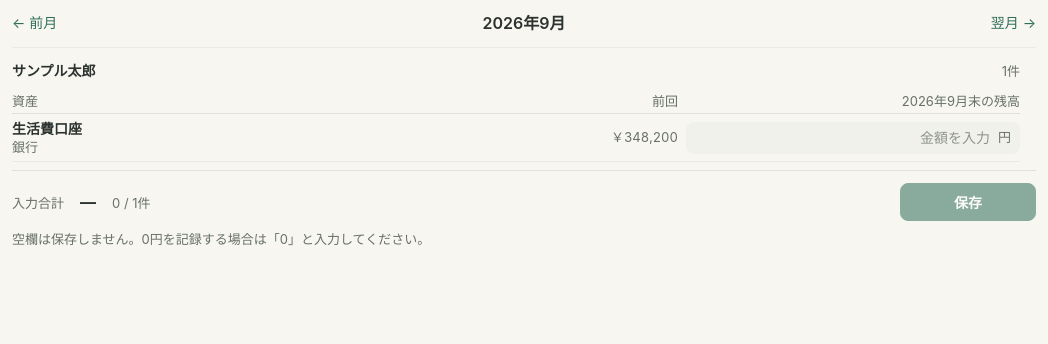
Test: BulkSnapshotEntry › explains invalid text without silently disabling the action
Type "abc" into the field labelled "金額を入力" at (842, 138), box [695,127,990,149]
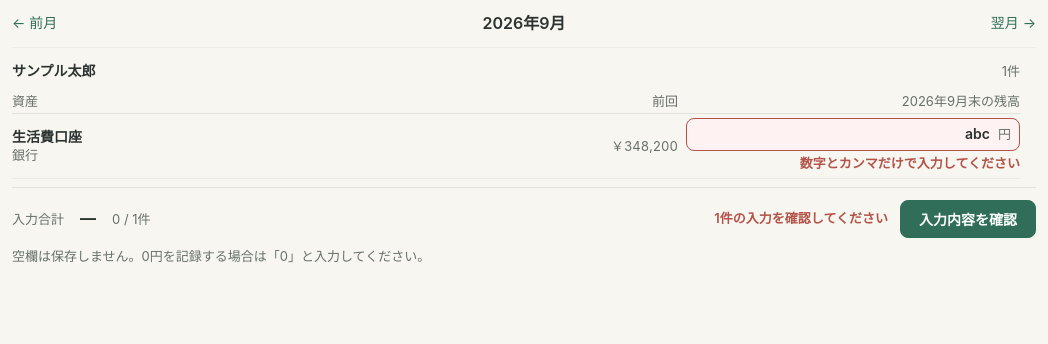
Now the text "数字とカンマだけで入力してください" is shown, box [800,155,1020,171]
Now the button "入力内容を確認" is enabled
Click the button "入力内容を確認" at (968, 219), box [900,200,1036,238]
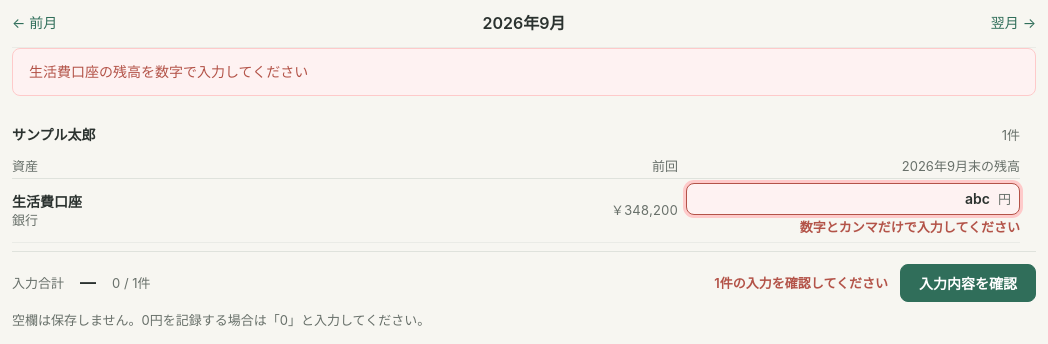
Now the message "生活費口座の残高を数字で入力してください" is shown, box [12,48,1036,96]
